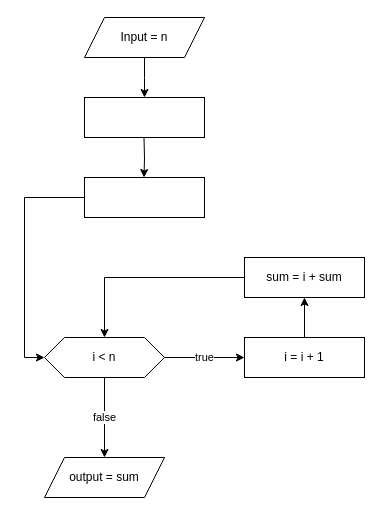
Image size: 382x515. Some labels were removed from this diagram. The centre of each missing label's shape, as x and y in pixels:
"i = 0" belongs at pixel 144 197.
"sum = 0" belongs at pixel 144 117.
